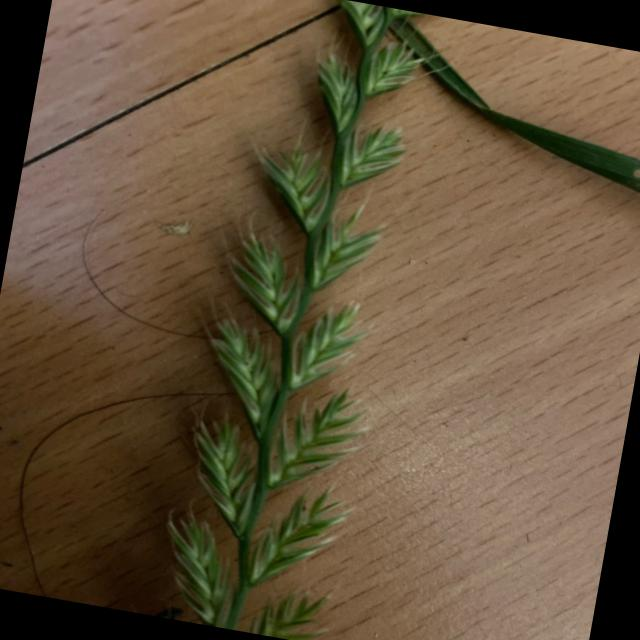Lolium: (143, 0, 447, 640)
